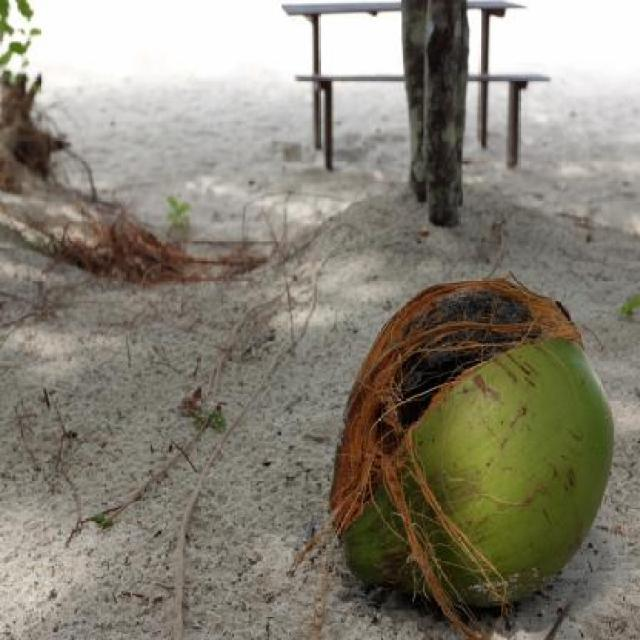Coconut: (293, 258, 618, 640)
